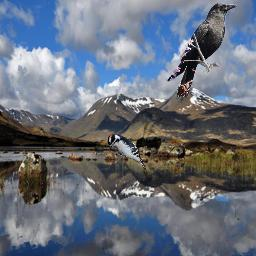Crow: (167, 2, 237, 97)
Woodpecker: (107, 133, 148, 172)
